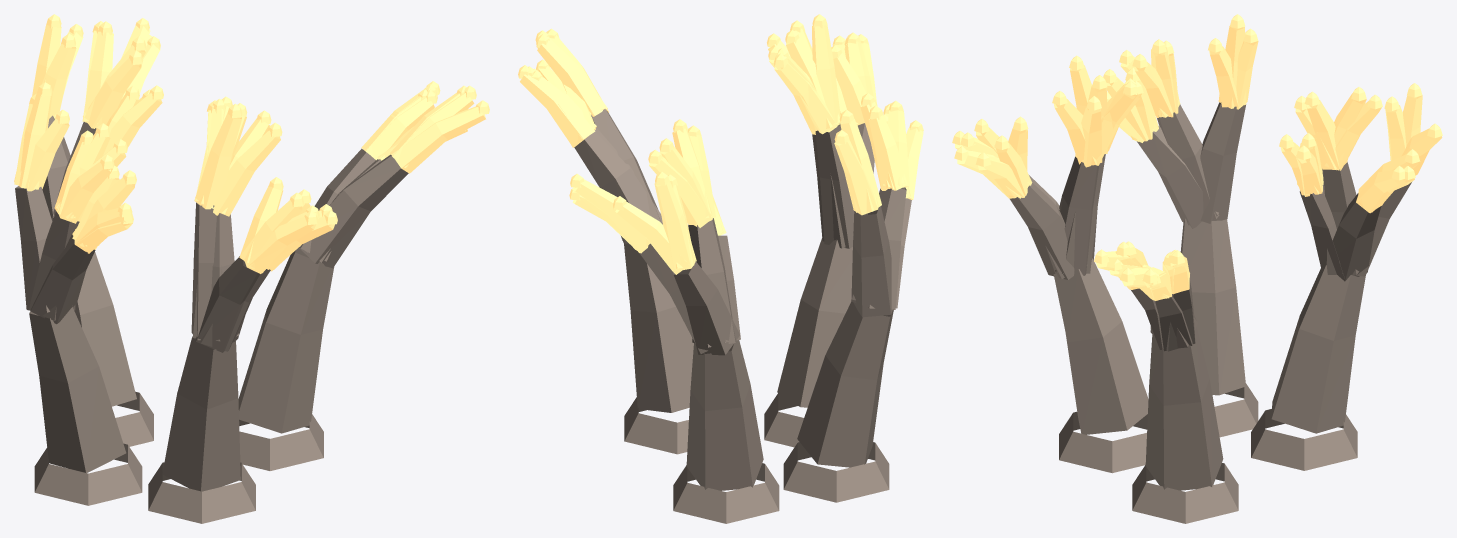
File: coral_v01.glb
3 views of the same model, side by side, from view 1: azimuth 30°, elevation 25°; view 2: azimuth 150°, elevation 25°; view 3: azimuth 270°, elevation 25° (orthographic).
Parts seen in each view (by area): view 1: mushroom_coral_flesh_nocol, mushroom_coral_glow_nocol; view 2: mushroom_coral_flesh_nocol, mushroom_coral_glow_nocol; view 3: mushroom_coral_flesh_nocol, mushroom_coral_glow_nocol.
Boxes of the visible parts, x1,y1,x2,y2 form: mushroom_coral_flesh_nocol: (15, 115, 408, 523); mushroom_coral_glow_nocol: (14, 14, 489, 273); mushroom_coral_flesh_nocol: (574, 109, 911, 523); mushroom_coral_glow_nocol: (518, 14, 923, 274); mushroom_coral_flesh_nocol: (1010, 102, 1411, 523); mushroom_coral_glow_nocol: (952, 14, 1442, 300).
Size of the model in its own units: 1.32 by 1.24 by 1.38.
